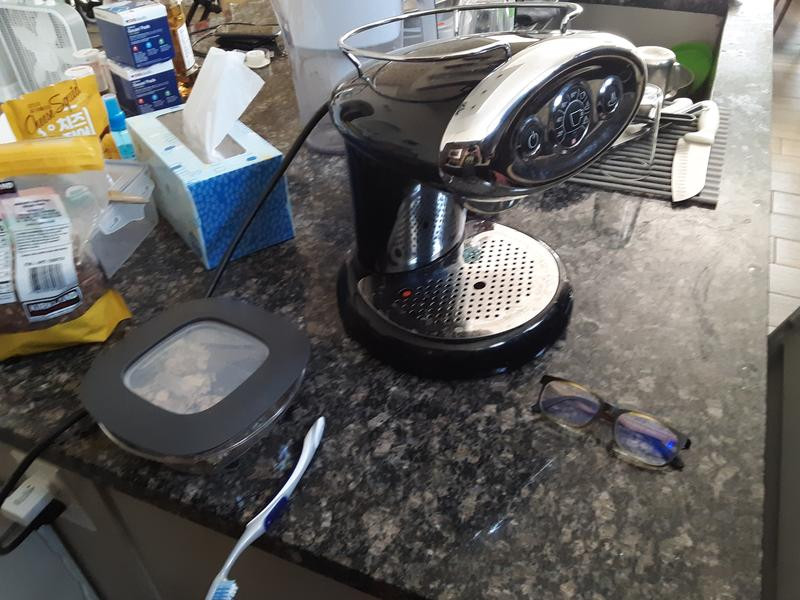glasses: (531, 373, 694, 473)
